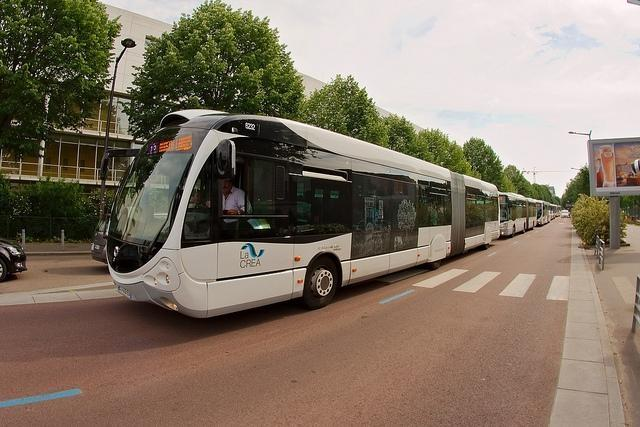bus: (102, 110, 503, 320), (498, 193, 528, 236), (526, 198, 538, 231), (537, 202, 549, 226), (550, 204, 556, 220), (554, 205, 560, 217)
car: (0, 237, 27, 285), (90, 211, 110, 262), (560, 210, 570, 218)
